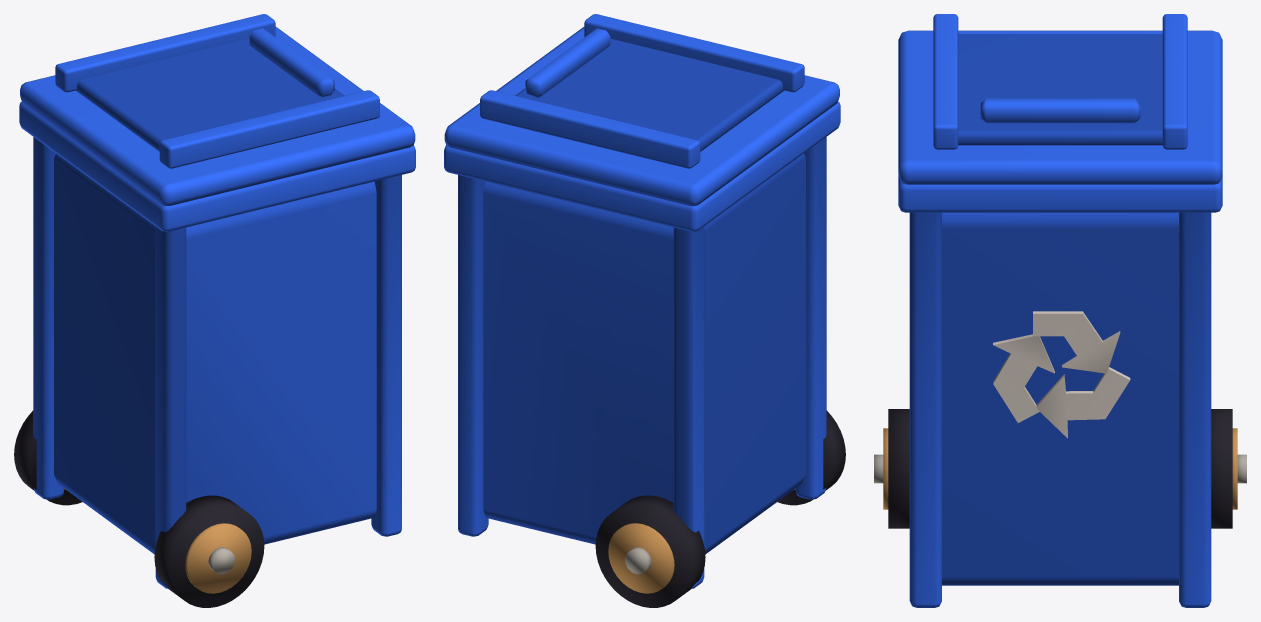
The model's file is prop.recycling-bin.glb.
The picture shows the model from 3 angles, left to right: view 1: azimuth 30°, elevation 25°; view 2: azimuth 150°, elevation 25°; view 3: azimuth 270°, elevation 25°; orthographic projection. The views are drawn at different scales.
Size of the model in its own units: 0.65 by 1.12 by 0.7478.
